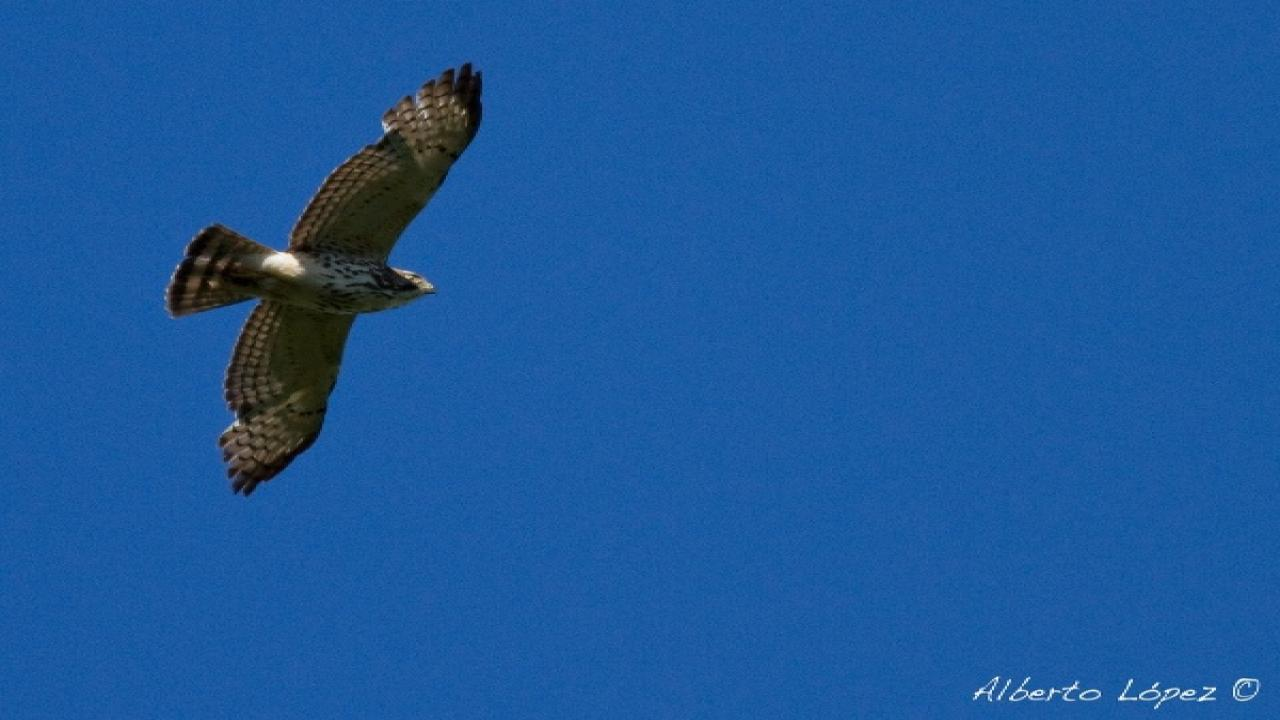Bird: (148, 51, 512, 508)
